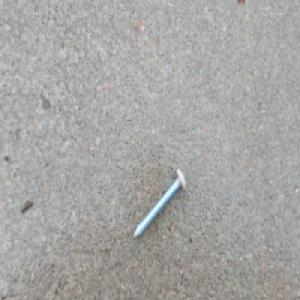Nail: (132, 167, 186, 240)
